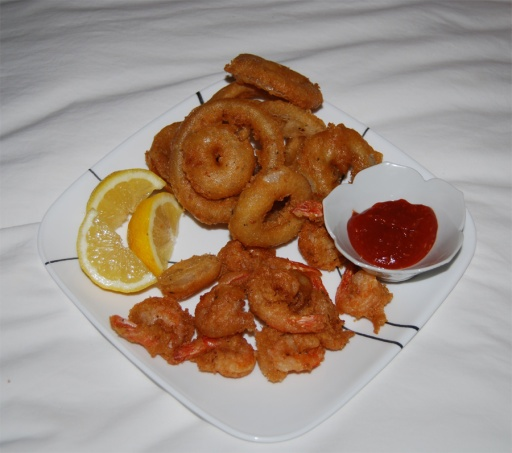background: (61, 38, 314, 270), (74, 51, 350, 190)
